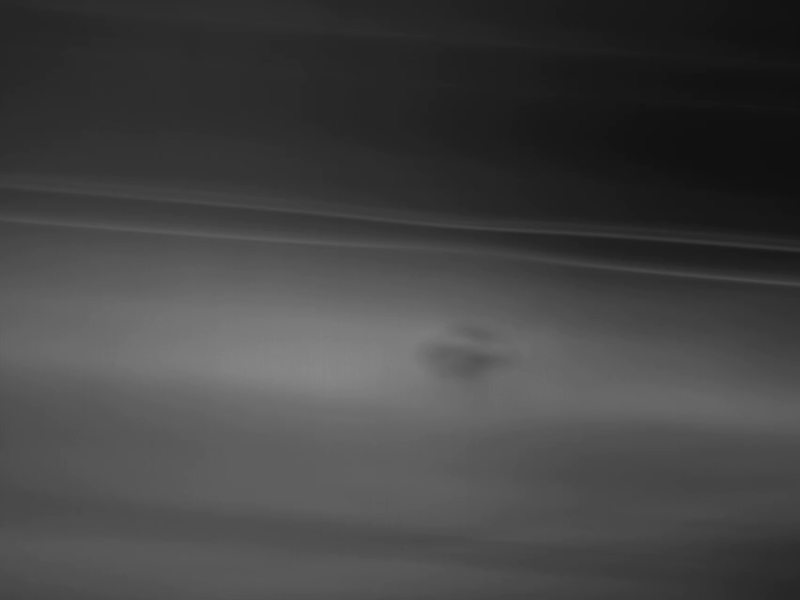bead: (412, 318, 510, 387)
